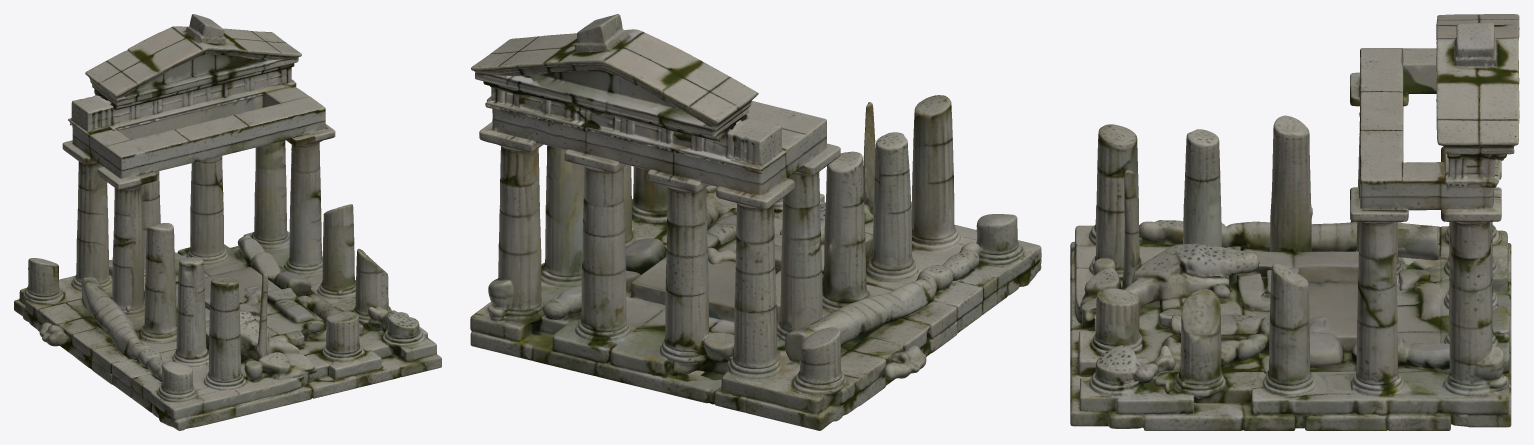
The model's file is stone_temple2.glb.
3 views of the same model, side by side, from view 1: azimuth 30°, elevation 25°; view 2: azimuth 150°, elevation 25°; view 3: azimuth 270°, elevation 25° (orthographic). The views are drawn at different scales.
Bounding box in the file's own units: 1 × 0.8504 × 0.999.
1 material, 1 textured.
